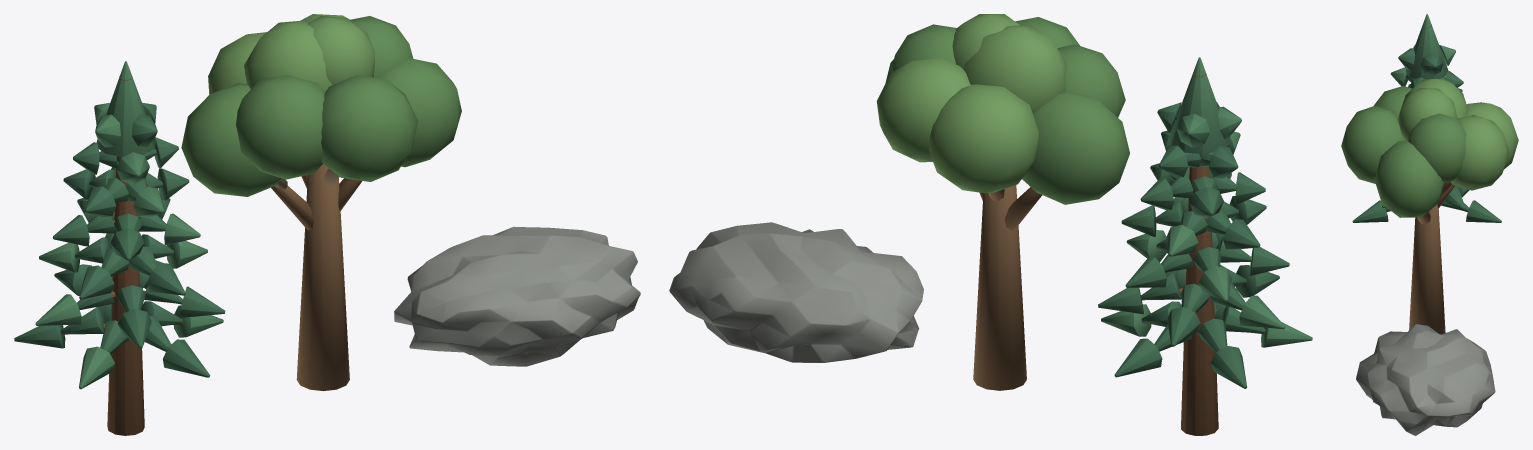
Rendered from biome_props.glb.
The picture shows the model from 3 angles, left to right: view 1: azimuth 30°, elevation 25°; view 2: azimuth 150°, elevation 25°; view 3: azimuth 270°, elevation 25°; orthographic projection. The views are drawn at different scales.
Parts seen in each view (by area): view 1: Broad_A, Fir_A, Rock_A; view 2: Broad_A, Fir_A, Rock_A; view 3: Broad_A, Rock_A, Fir_A.
Boxes of the visible parts, x1,y1,x2,y2 form: Broad_A: (181, 14, 461, 391); Fir_A: (14, 61, 225, 435); Rock_A: (394, 226, 640, 366); Broad_A: (876, 14, 1129, 390); Fir_A: (1098, 57, 1312, 435); Rock_A: (669, 222, 923, 362); Broad_A: (1341, 79, 1518, 334); Rock_A: (1356, 324, 1495, 435); Fir_A: (1352, 14, 1501, 222).
Size of the model in its own units: 17.99 by 11.19 by 6.7.
